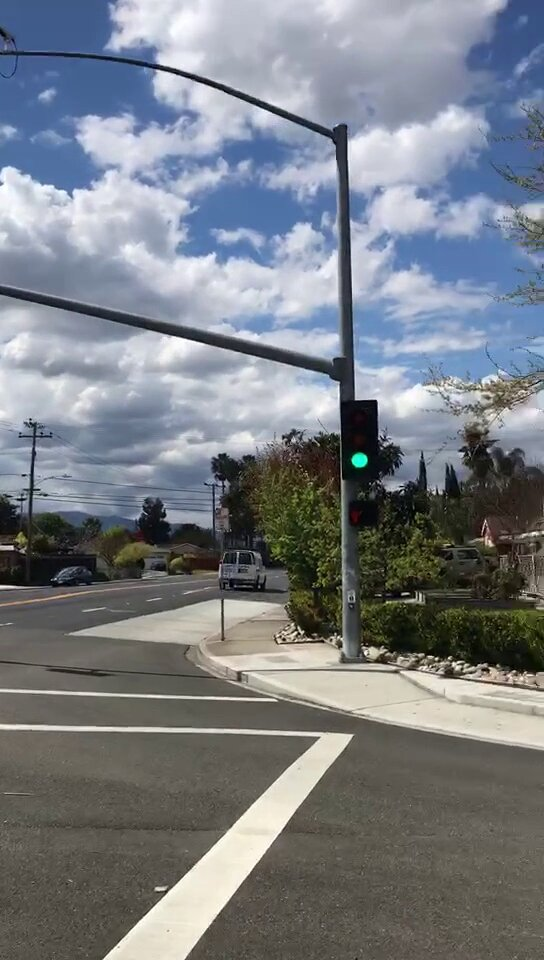green_light: (343, 403, 379, 482)
